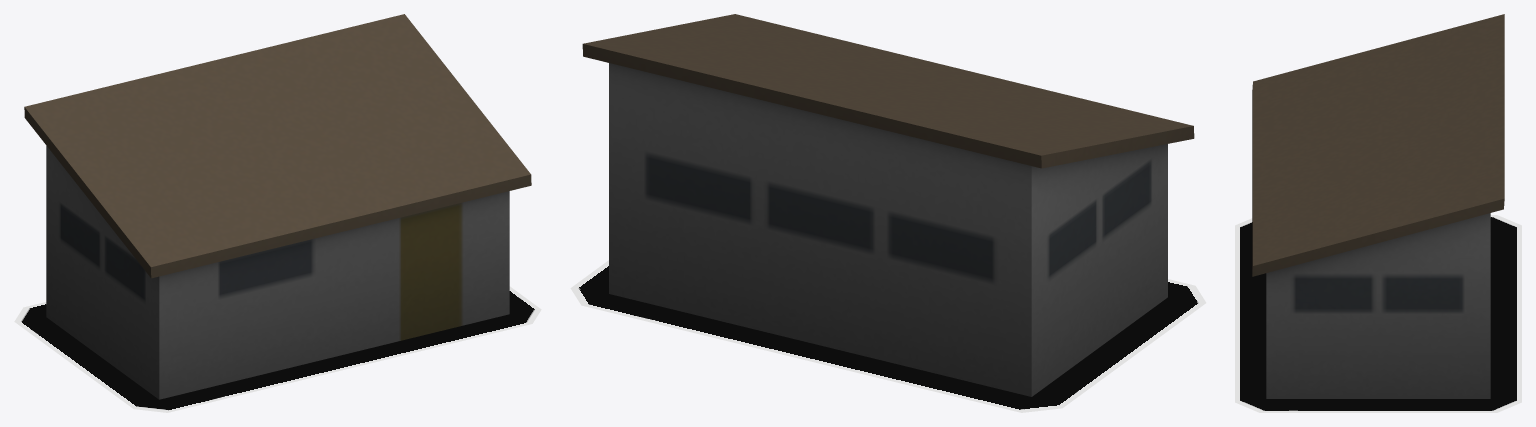
The model's file is 3x2_shack.FBX.
The picture shows the model from 3 angles, left to right: view 1: azimuth 30°, elevation 25°; view 2: azimuth 150°, elevation 25°; view 3: azimuth 270°, elevation 25°; orthographic projection. The views are drawn at different scales.
Visible parts, largest first — view 1: 3x2_shack, 3x2_shack_soft_shadow; view 2: 3x2_shack, 3x2_shack_soft_shadow; view 3: 3x2_shack, 3x2_shack_soft_shadow.
Boxes of the visible parts, x1,y1,x2,y2 form: 3x2_shack: (24,14,531,399); 3x2_shack_soft_shadow: (14,286,541,412); 3x2_shack: (582,14,1194,396); 3x2_shack_soft_shadow: (570,260,1206,412); 3x2_shack: (1252,14,1504,398); 3x2_shack_soft_shadow: (1235,215,1521,412).
Bounding box in the file's own units: 2766 × 1366 × 1693.
